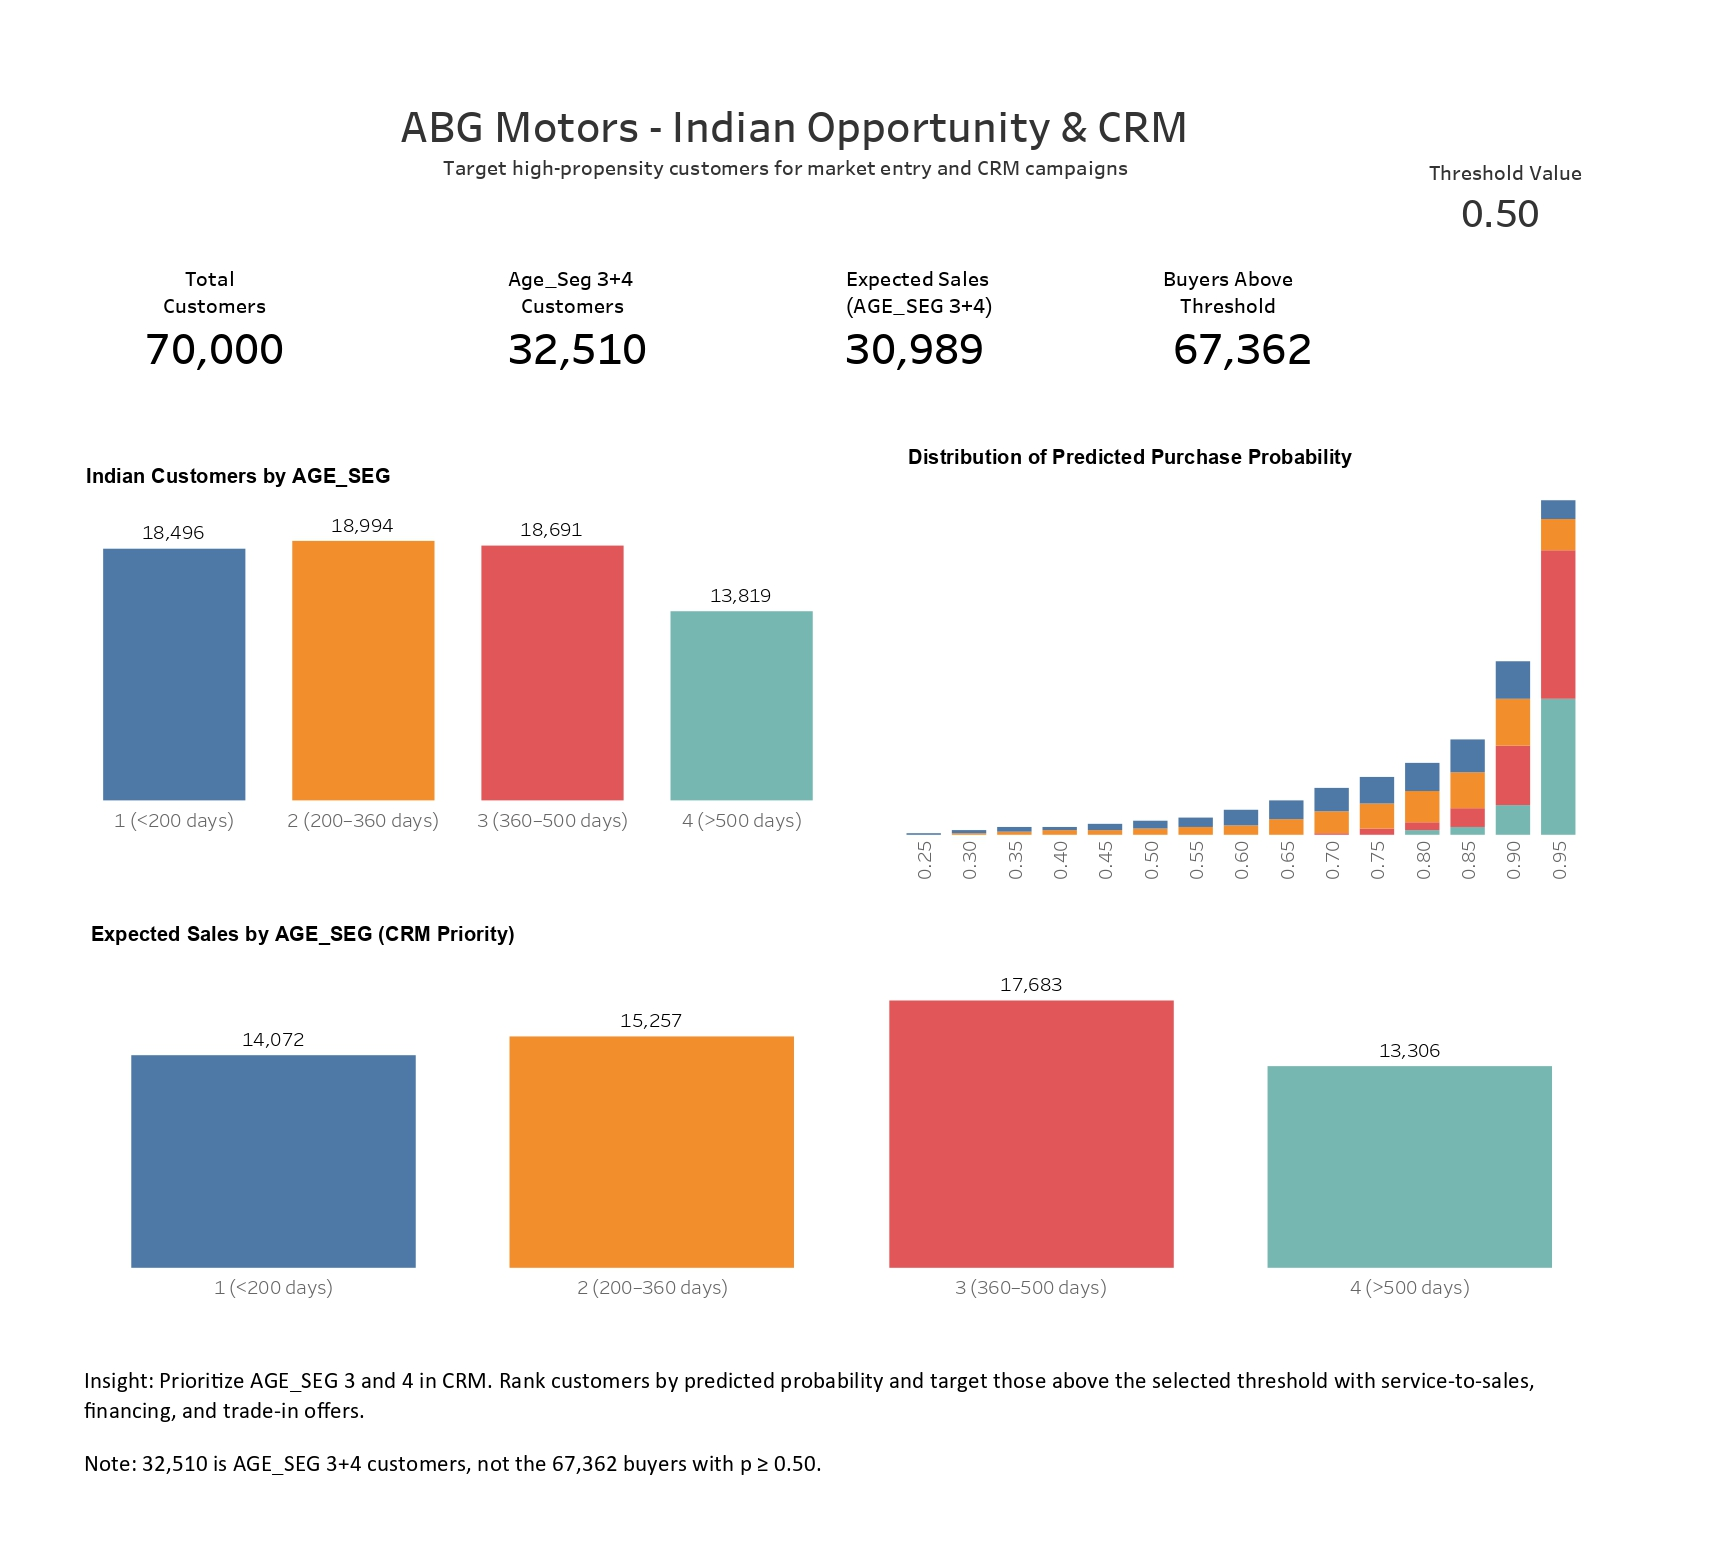

The dashboard page shown, as its layout file describes it:
{"tool":"tableau","page":{"name":"Dashboard 3","canvas":[1000,900],"ordinal":2},"visuals":[{"type":"worksheet","title":"Treshold KPI","mark":"Automatic","box":[862,41.6,130,75.4]},{"type":"worksheet","title":"Viz_Prob_Histogram","mark":"Automatic","rows":["ID"],"cols":["Proba Logreg (bin)"],"box":[529,230.6,434,284.6]},{"type":"worksheet","title":"Viz_AGESEG_Distribution","mark":"Automatic","rows":["ID"],"cols":["Calculation_0177059596951553"],"box":[3,243,484,261]},{"type":"worksheet","title":"Viz_CRM_Targeting","mark":"Automatic","rows":["proba_logreg"],"cols":["Calculation_0177059596951553"],"box":[6,536,970,267]}]}

Visuals, with their boxes in screenshot pixels (x1, y1, x2, y2), scaled from the page's 1000x900 canvas onto the 1713x1557 screenshot:
"Treshold KPI" worksheet: crop(1477, 72, 1699, 202)
"Viz_Prob_Histogram" worksheet: crop(906, 399, 1650, 891)
"Viz_AGESEG_Distribution" worksheet: crop(5, 420, 834, 872)
"Viz_CRM_Targeting" worksheet: crop(10, 927, 1672, 1389)
